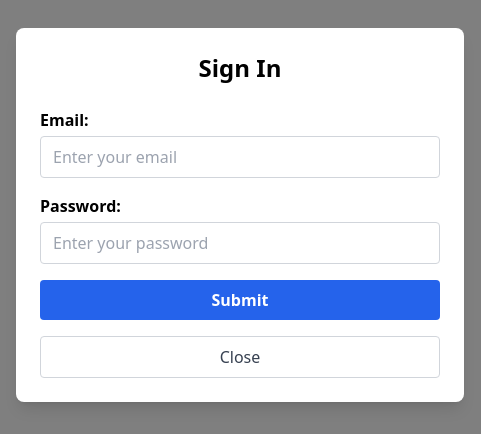
Test: SignIn Component › shows invalid email format error
Type "invalidemail" into the field labelled "Email:" at (240,157), box [40,136,440,178]
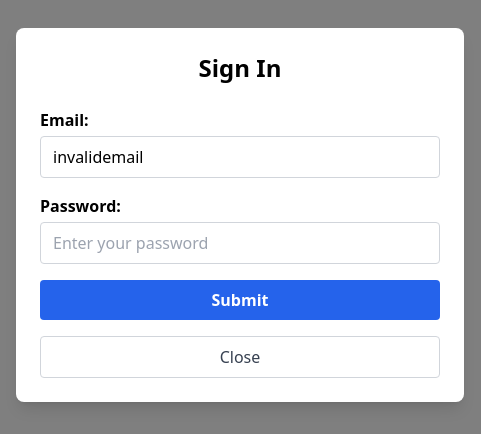
Type "123456" into the password field labelled "Password:" at (240,243), box [40,222,440,264]
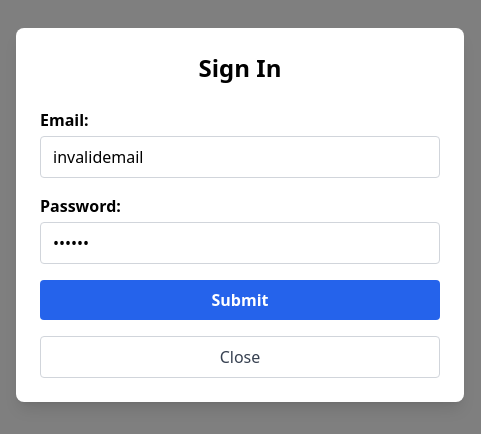
Click the button "Submit" at (240,300), box [40,280,440,320]
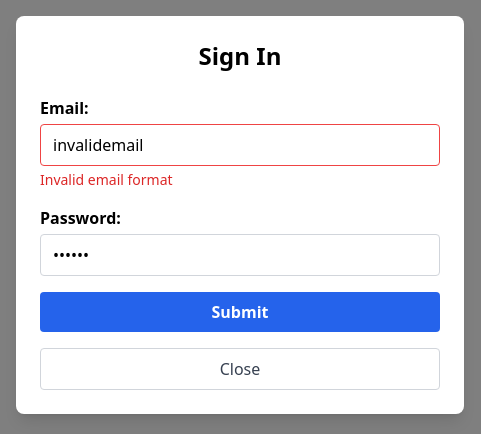
Check: the text "Invalid email format" is shown, box [40,170,173,189]
